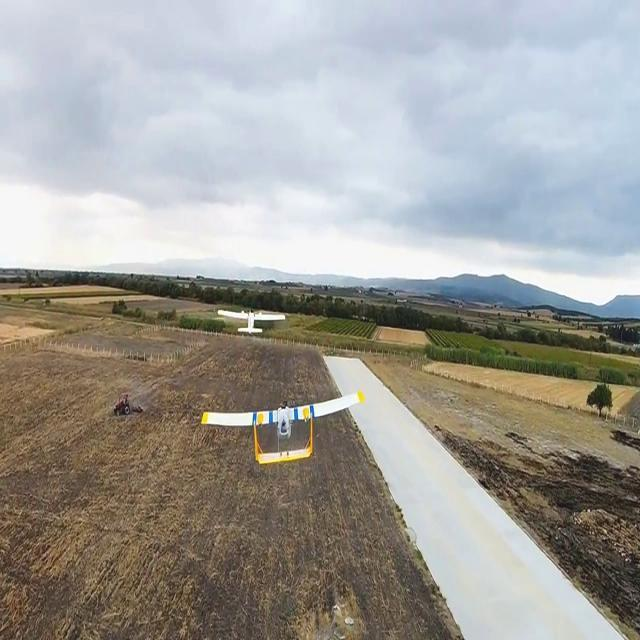iha: (199, 410, 374, 446), (253, 300, 254, 340)
